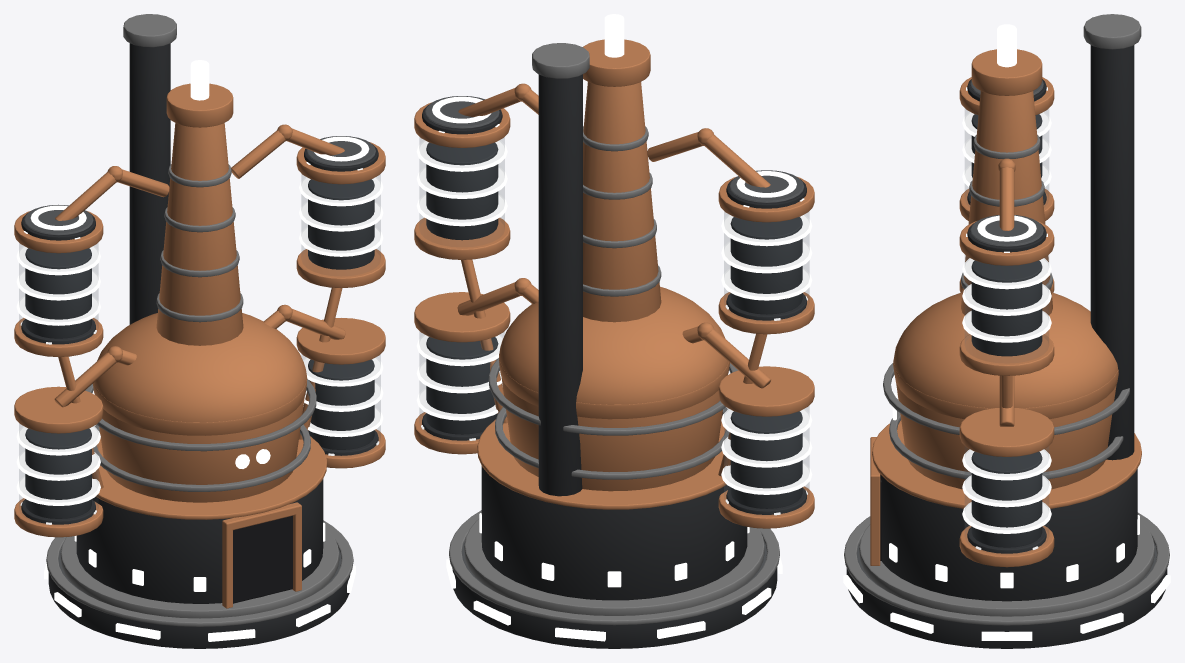
File: Skin_Distillery_T3.glb
3 renders of one model, left to right at view 1: azimuth 30°, elevation 25°; view 2: azimuth 150°, elevation 25°; view 3: azimuth 270°, elevation 25°, orthographic. The views are drawn at different scales.
Parts seen in each view (by area): view 1: Skin_Distillery_T3; view 2: Skin_Distillery_T3; view 3: Skin_Distillery_T3.
Part boxes in pixels (x1,y1,x2,y2): Skin_Distillery_T3: (14, 14, 385, 648); Skin_Distillery_T3: (414, 14, 814, 648); Skin_Distillery_T3: (843, 14, 1170, 648).
Bounding box in the file's own units: 5.22 × 7.27 × 3.87.
